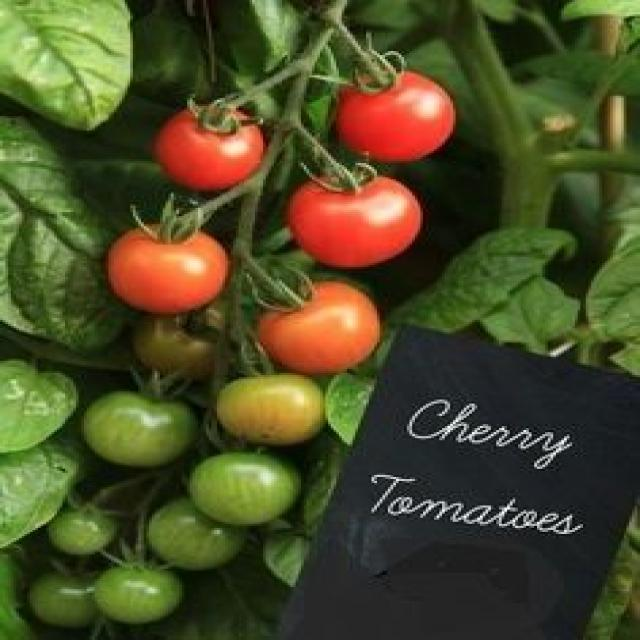level 1: (33, 568, 115, 630)
level 2: (187, 453, 306, 522), (88, 393, 196, 462), (156, 496, 244, 571), (95, 560, 180, 622), (53, 503, 115, 555)
level 3: (214, 366, 322, 444), (148, 309, 232, 379)
level 5: (107, 219, 234, 312), (264, 282, 380, 370)
level 6: (298, 169, 424, 267), (341, 70, 454, 160), (155, 109, 267, 189)
